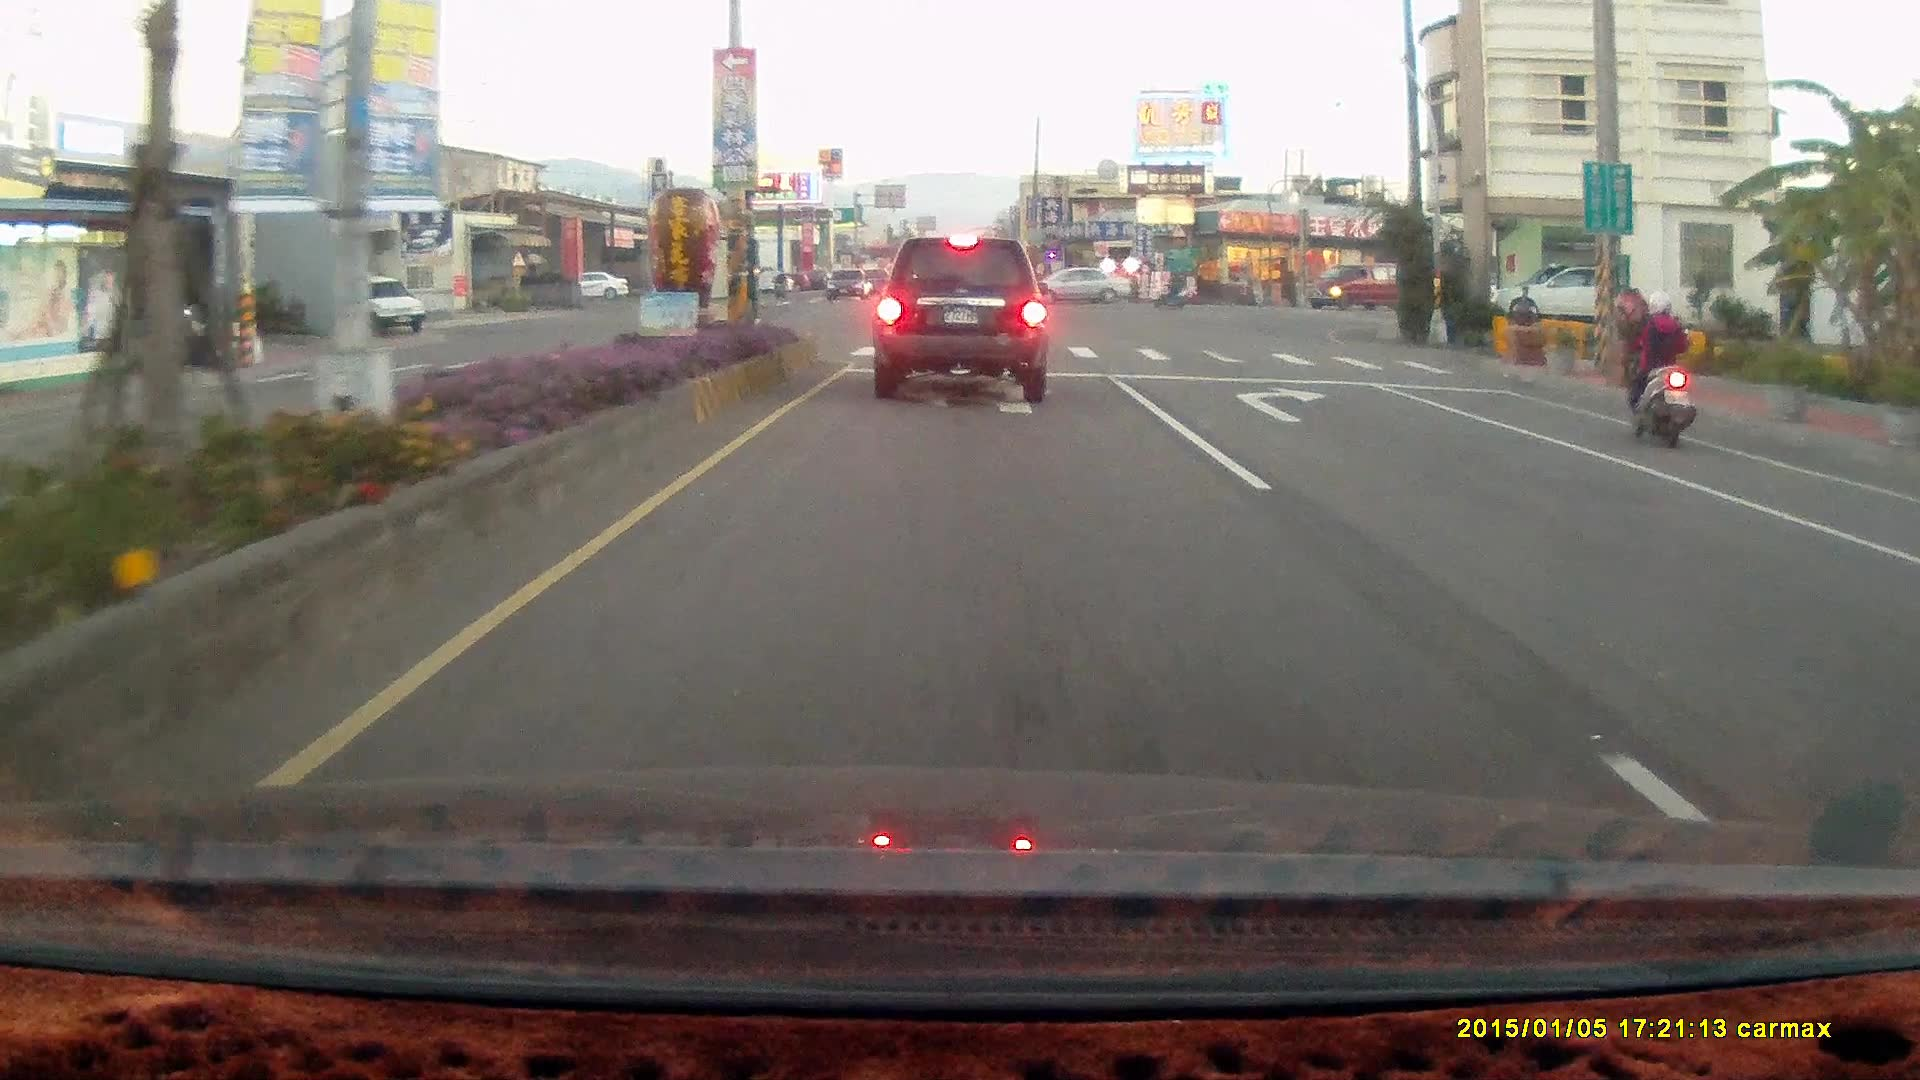rider: (1621, 289, 1698, 452), (1155, 269, 1189, 310)
vehicle: (871, 235, 1051, 403), (1490, 262, 1640, 328), (1896, 493, 1920, 836), (1493, 265, 1611, 329), (1883, 528, 1920, 690), (346, 275, 428, 338), (1306, 263, 1411, 310), (1022, 268, 1133, 310), (1022, 263, 1131, 303), (1311, 268, 1399, 313)
